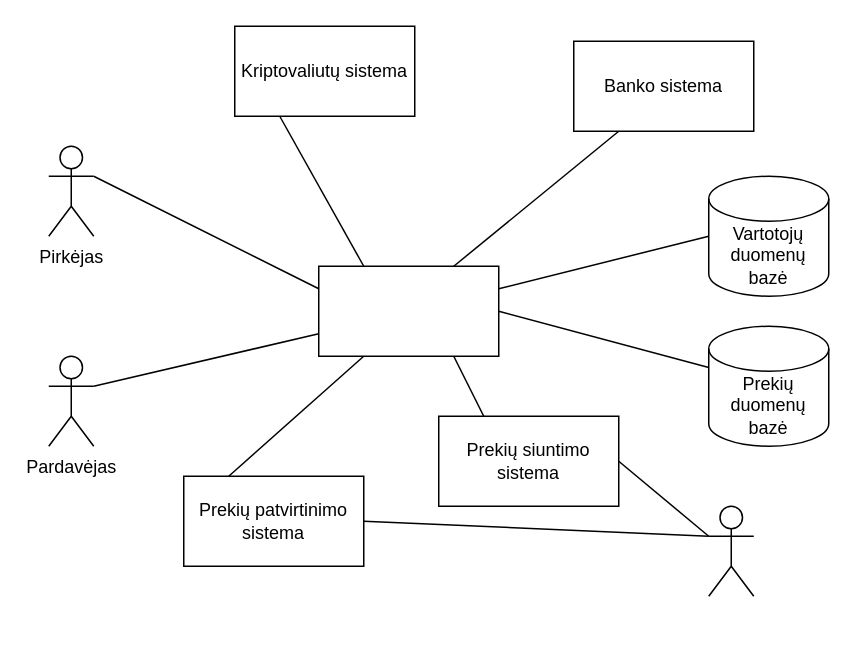
Image size: 855x654. Some labels were removed from this diagram. Here are the shapes that lost their labels. From the top down, the centre of each, then its label:
(x=408, y=310): <<sistema>> Prekių aukciono sistema
(x=730, y=550): Darbuotojas
